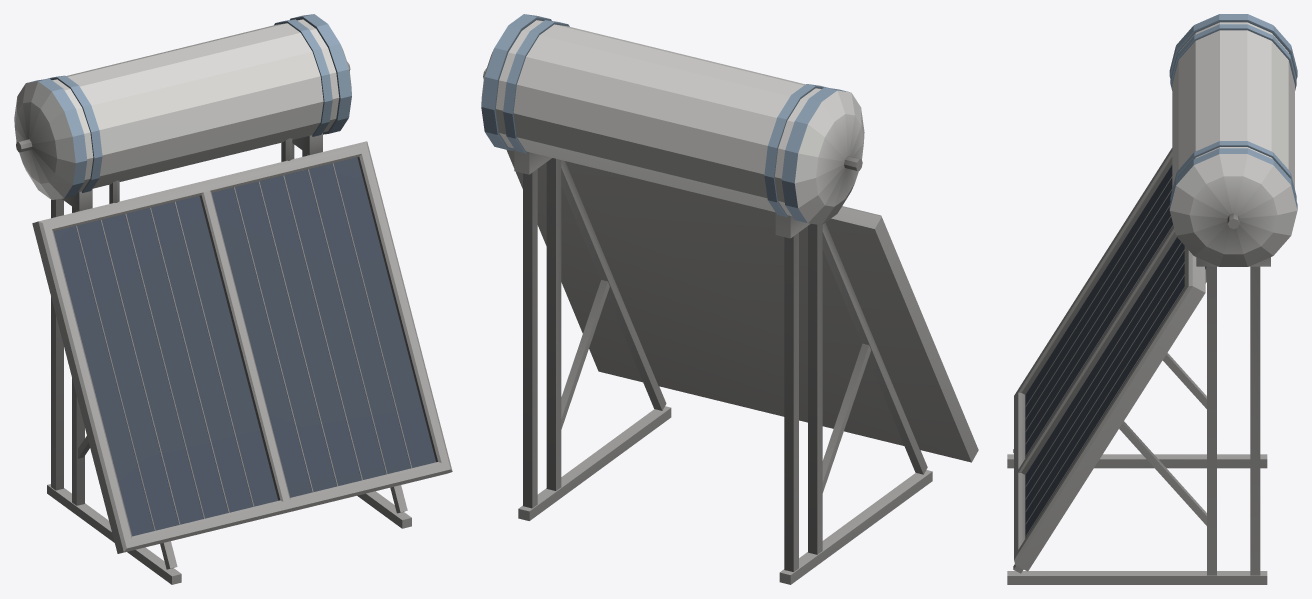
The model's file is solar.glb.
3 renders of one model, left to right at view 1: azimuth 30°, elevation 25°; view 2: azimuth 150°, elevation 25°; view 3: azimuth 270°, elevation 25°, orthographic. The views are drawn at different scales.
Parts seen in each view (by area): view 1: solar; view 2: solar; view 3: solar.
Part boxes in pixels (left/top/right/bottom): solar: left=14, top=14, right=452, bottom=584; solar: left=481, top=14, right=978, bottom=584; solar: left=1007, top=14, right=1297, bottom=584.
Size of the model in its own units: 2 by 2.46 by 1.47.
